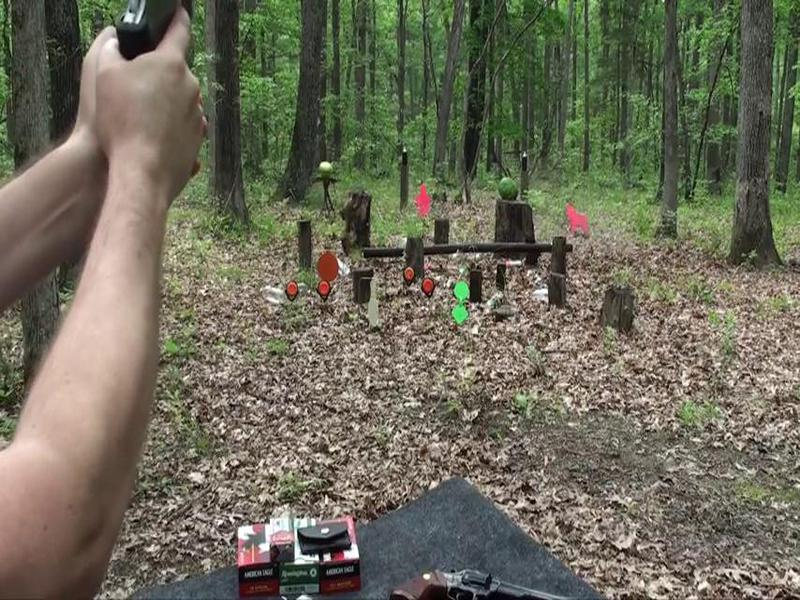Revolver: (377, 547, 569, 600)
